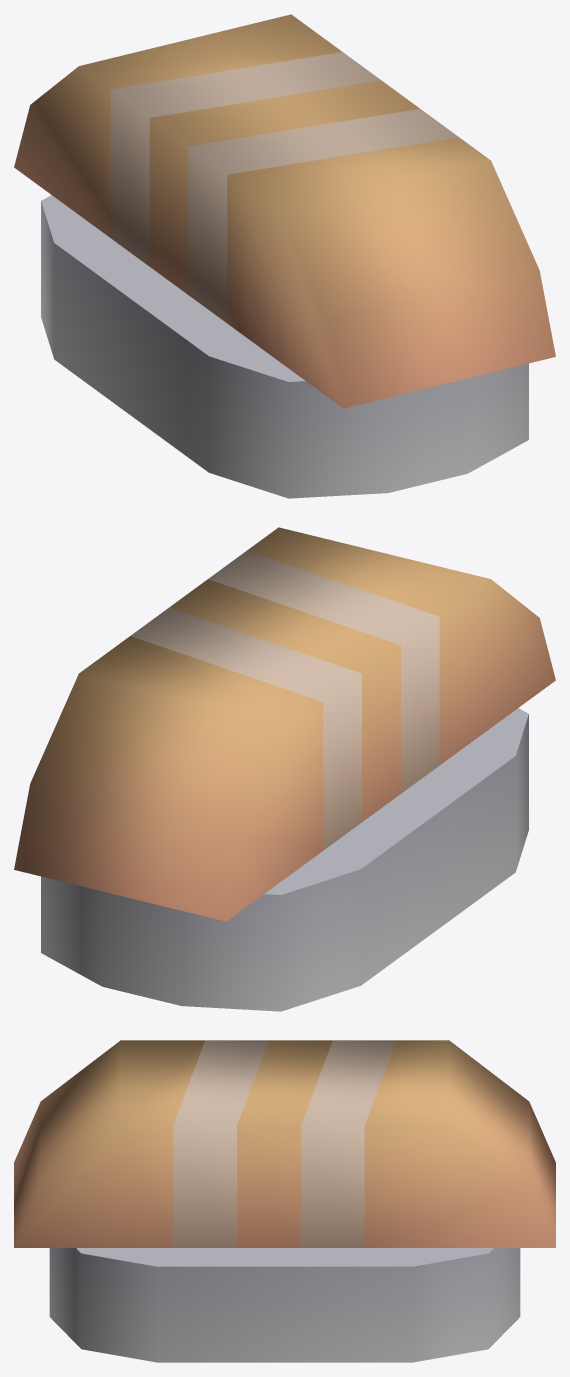
File: sushi-salmon.glb
3 renders of one model, top to bottom at view 1: azimuth 30°, elevation 25°; view 2: azimuth 150°, elevation 25°; view 3: azimuth 270°, elevation 25°, orthographic. The views are drawn at different scales.
Visible parts, largest first — view 1: sushi-salmon; view 2: sushi-salmon; view 3: sushi-salmon.
Part boxes in pixels (x1,y1,x2,y2): sushi-salmon: (14,14,555,498); sushi-salmon: (14,527,555,1011); sushi-salmon: (14,1040,555,1362).
Bounding box in the file's own units: 0.1079 × 0.0892 × 0.2008.
